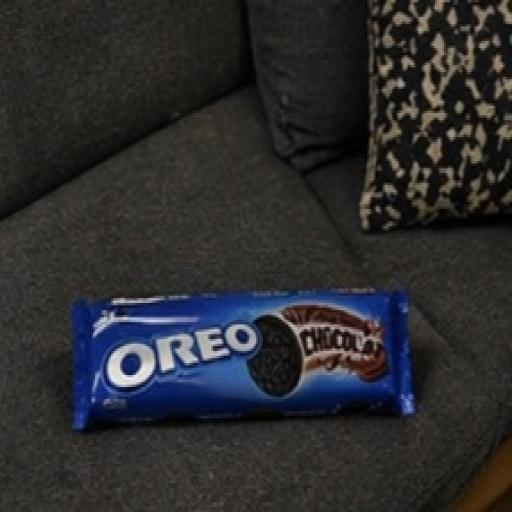oreo: (56, 241, 462, 471)
